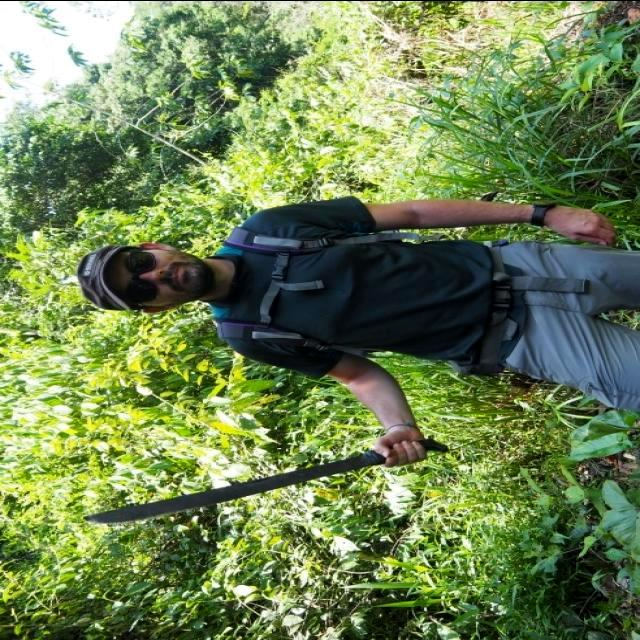long knife: (84, 424, 468, 548), (84, 425, 429, 527)
